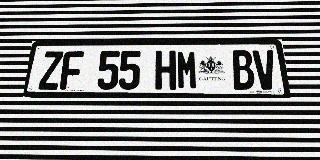5: (97, 51, 120, 90), (119, 51, 141, 90)
B: (231, 50, 256, 90)
F: (59, 51, 84, 90)
H: (155, 51, 176, 90)
M: (176, 50, 198, 90)
V: (252, 50, 278, 90)
Z: (38, 51, 63, 90)
